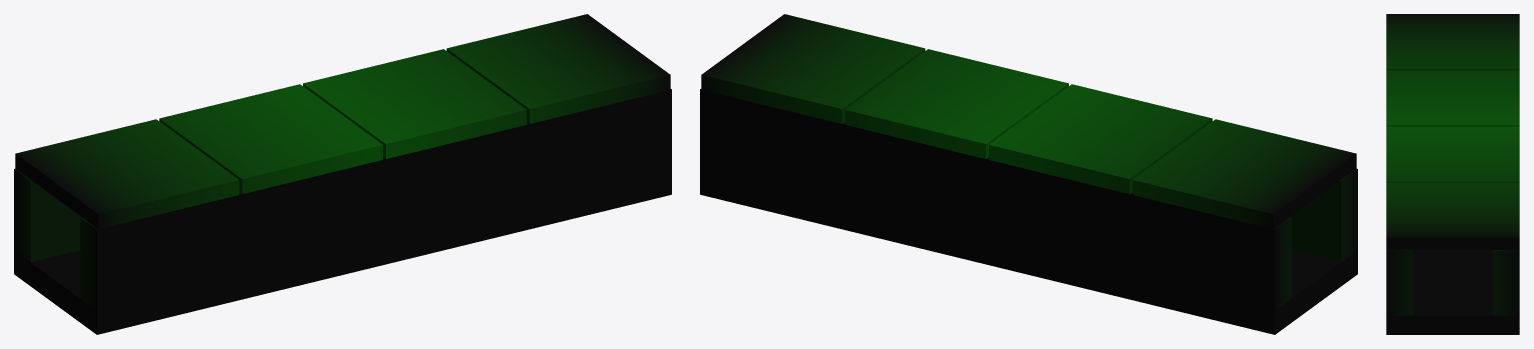
The model's file is muong_straight.far.glb.
3 renders of one model, left to right at view 1: azimuth 30°, elevation 25°; view 2: azimuth 150°, elevation 25°; view 3: azimuth 270°, elevation 25°, orthographic. The views are drawn at different scales.
Visible parts, largest first — view 1: muong_straight; view 2: muong_straight; view 3: muong_straight.
Boxes of the visible parts, x1=… form: muong_straight: x1=14, y1=14, x2=671, y2=334; muong_straight: x1=700, y1=14, x2=1357, y2=334; muong_straight: x1=1386, y1=14, x2=1519, y2=334.
Size of the model in its own units: 2 by 0.4 by 0.5.
